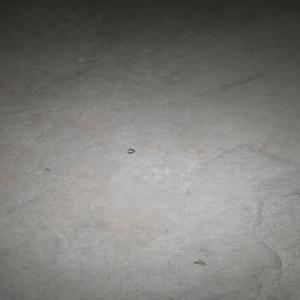Nut: (126, 148, 135, 154)
